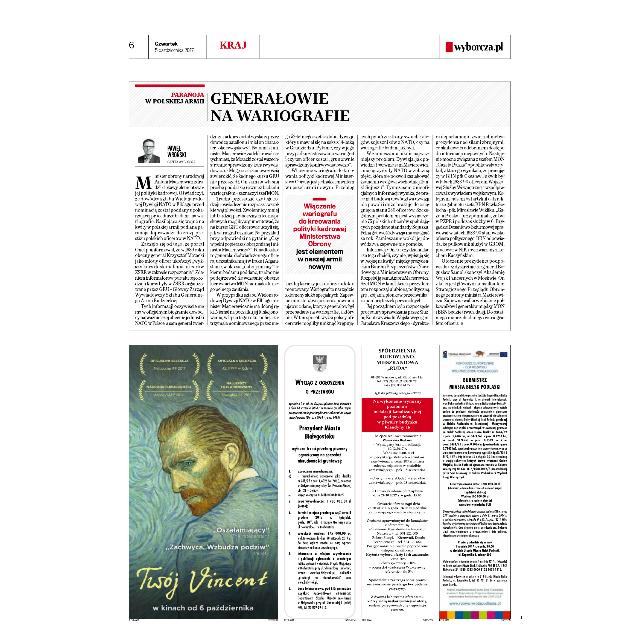article: (132, 84, 506, 328)
